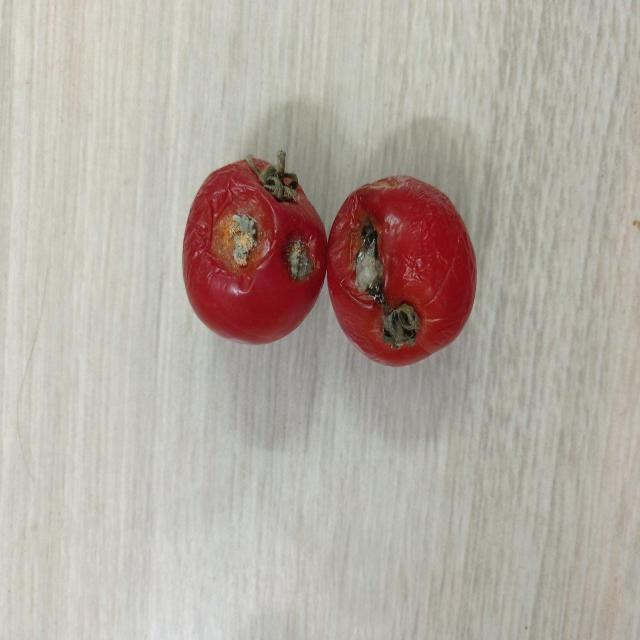Rotten: (180, 156, 330, 347), (328, 174, 477, 366)
